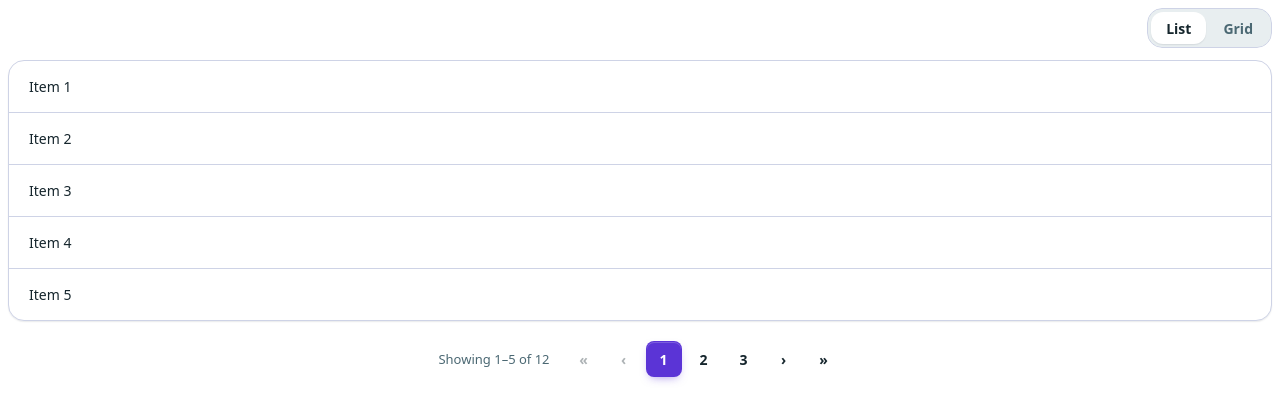
Test: DataView › toggles layout and paginates
Expected: the number of list items is 5, [9,61,1271,113]; [9,113,1271,165]; [9,165,1271,217]; [9,217,1271,269]; [29,285,71,304]
Click the button "Grid": (1238, 28) [1208,12,1268,44]
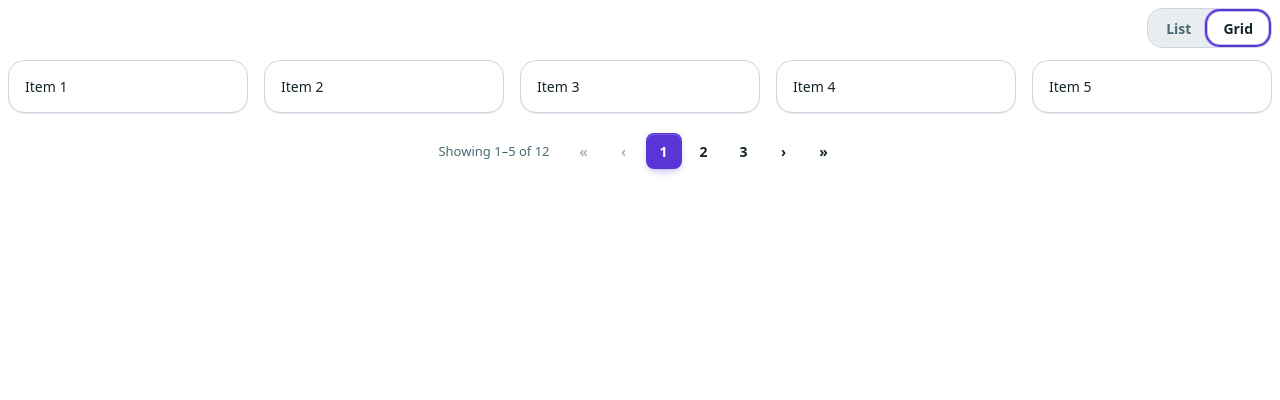
Result: the button "Grid" is pressed at [1208,12,1268,44]
Result: the list named "Products" has class "pl-dataview__content--grid" at [8,60,1272,113]
Click the button named "Page 3": (744, 151) [726,133,762,169]
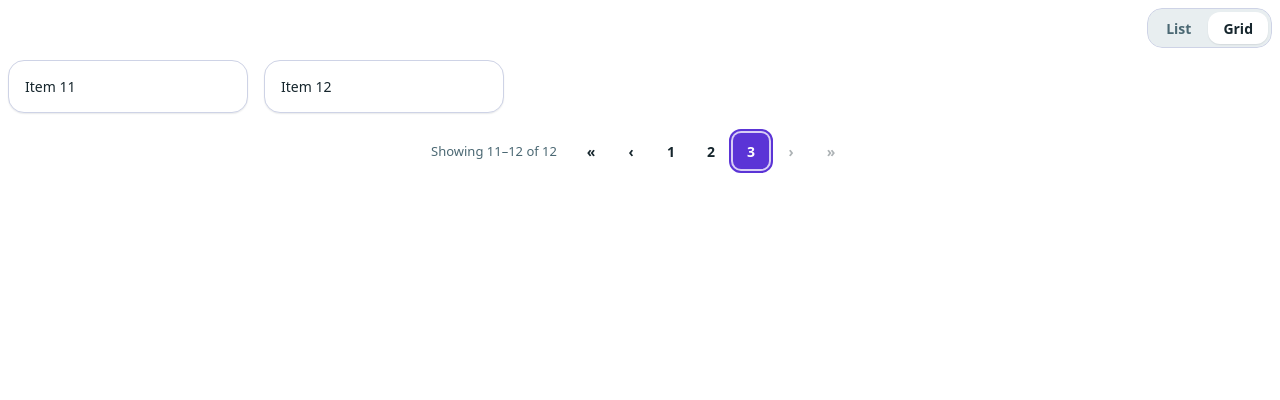
Result: the number of list items is 2 at [8,60,248,113]; [264,60,504,113]
